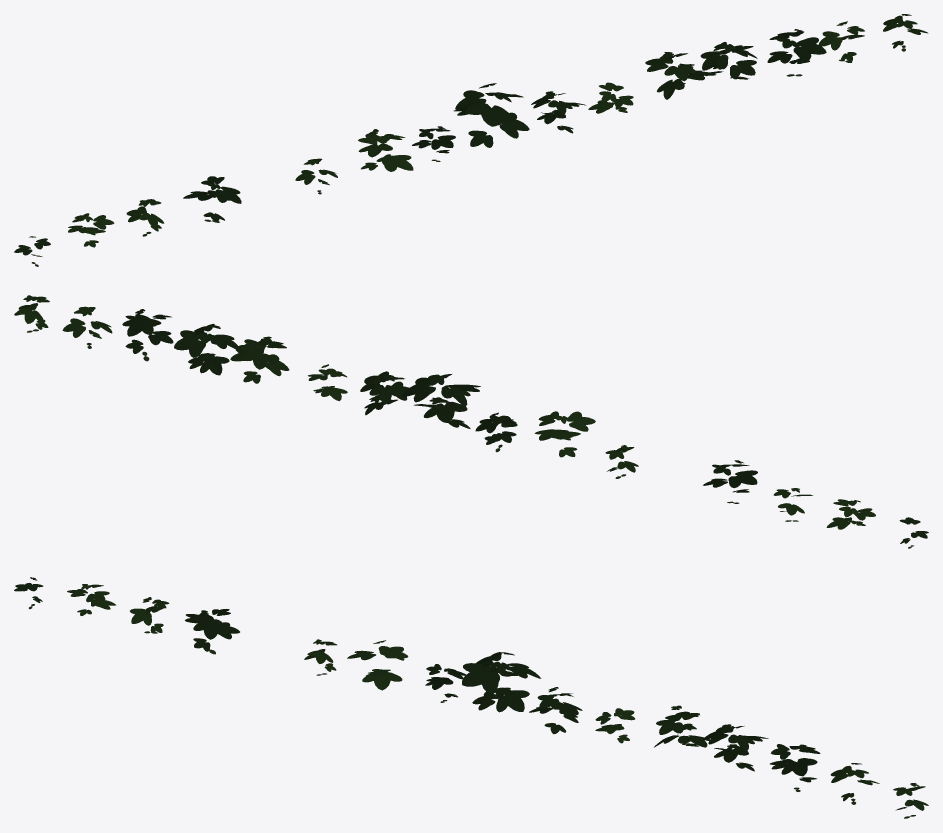
Rendered from ROW_11_SEG3_foliage.dae.
The picture shows the model from 3 angles, top to bottom: view 1: azimuth 30°, elevation 25°; view 2: azimuth 150°, elevation 25°; view 3: azimuth 330°, elevation 25°; orthographic projection.
Visible parts, largest first — view 1: ROW_11_SEG3_foliage; view 2: ROW_11_SEG3_foliage; view 3: ROW_11_SEG3_foliage.
Part boxes in pixels (box(x1,y1,x2,y2)): ROW_11_SEG3_foliage: box(14, 14, 928, 266); ROW_11_SEG3_foliage: box(14, 295, 928, 548); ROW_11_SEG3_foliage: box(14, 577, 928, 818).
Bounding box in the file's own units: 4.74 × 0.3311 × 0.3168.
